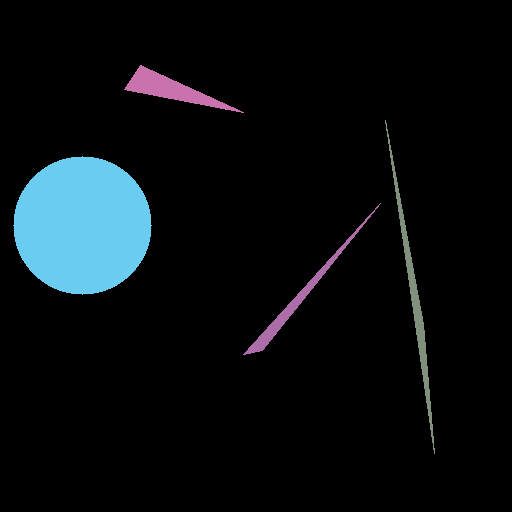circle: (13, 156, 151, 294)
triangle: (243, 203, 380, 354), (124, 65, 243, 112)
